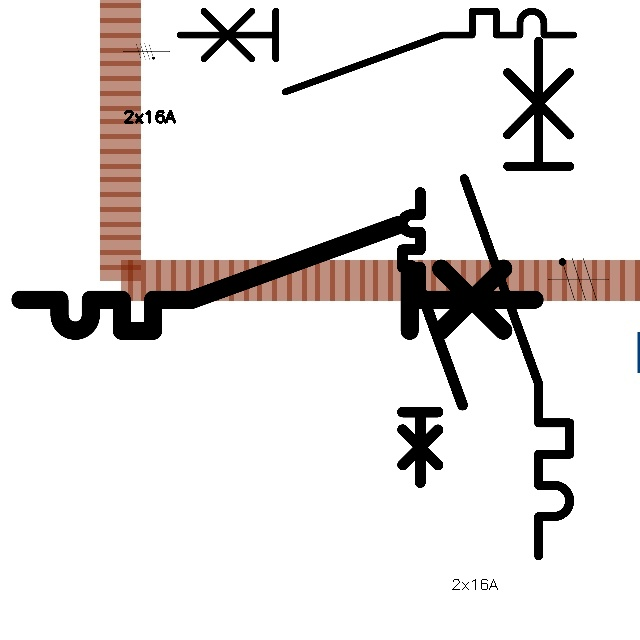interruptor_termomagnetico: (451, 28, 583, 569), (7, 212, 547, 344), (169, 1, 583, 102), (395, 185, 469, 490)
